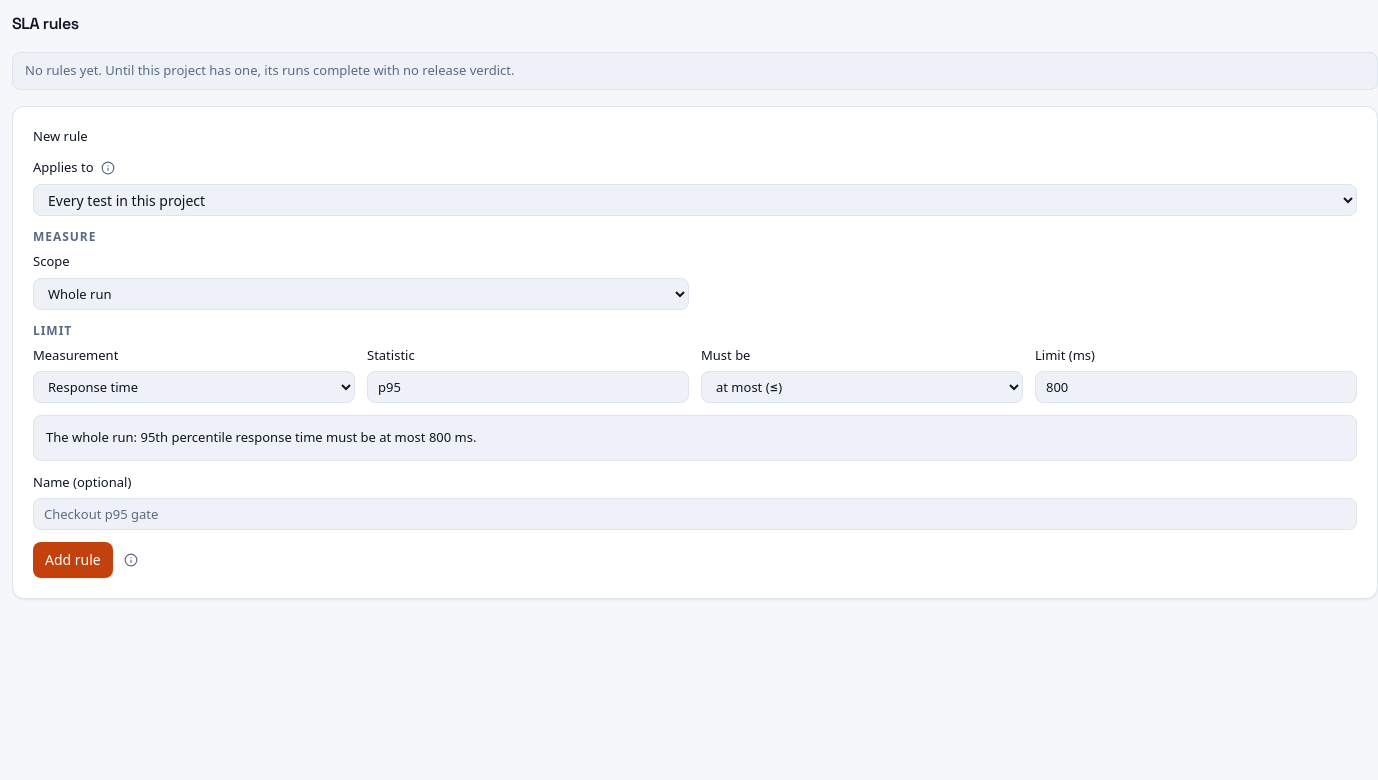
Scenario: ProjectRules — authoring › shows the target field only for the scopes that match by name
Check: the field labelled "target" is not shown
Select "Request" in the dropdown labelled "Scope". click: (361,294)
box: [33,278,689,310]
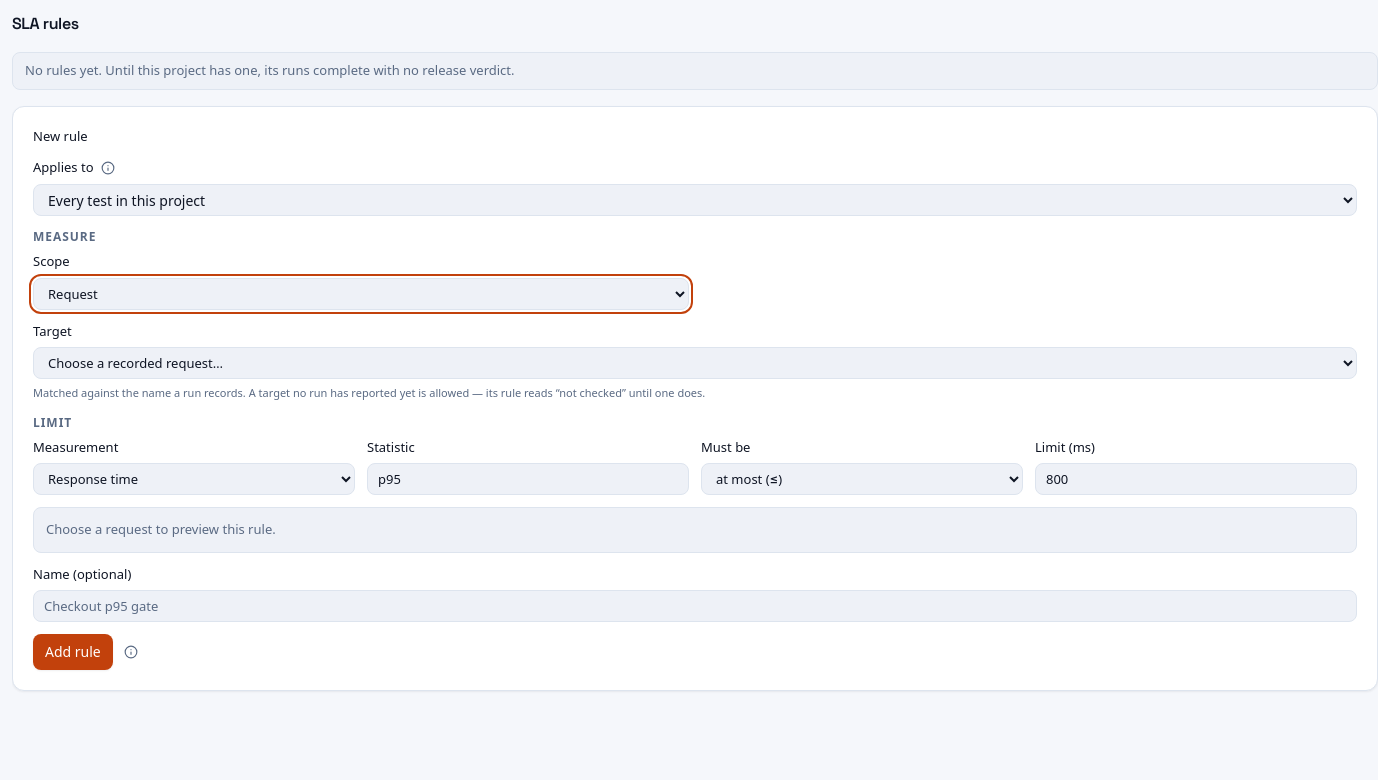
Check: the dropdown labelled "Target" is shown, box [33,347,1357,379]
